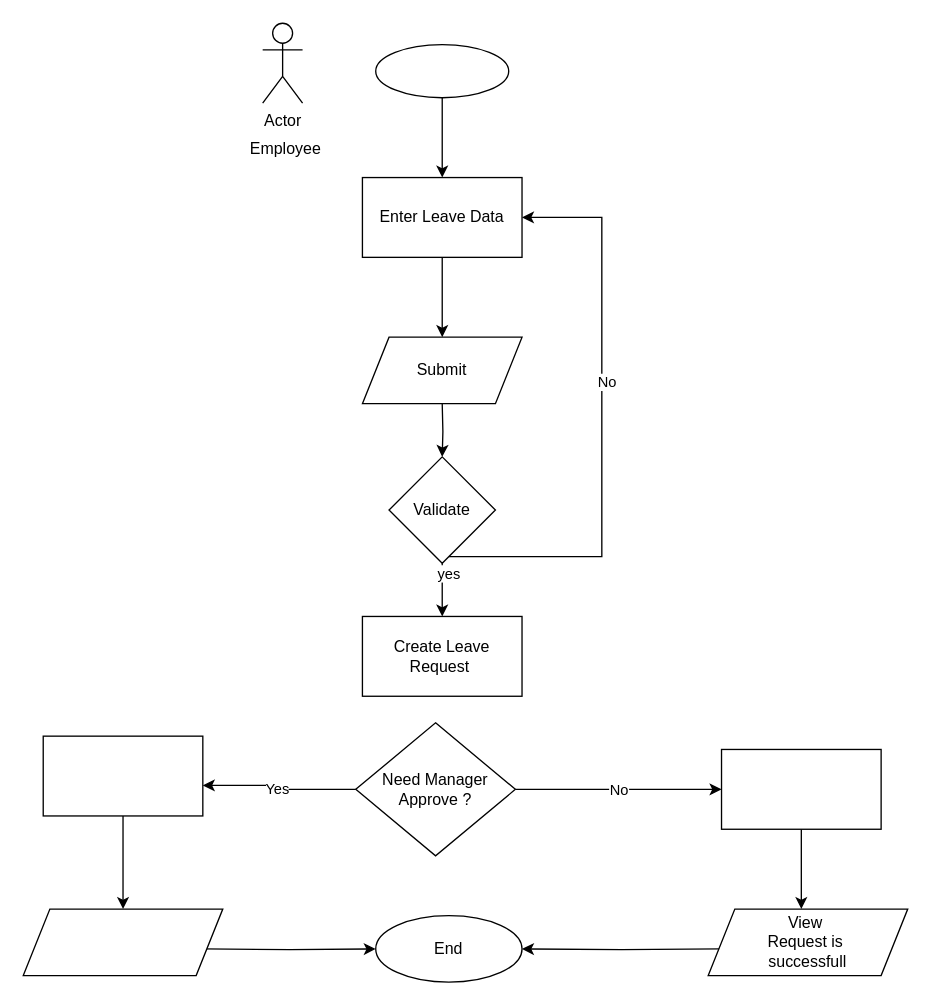
The diagram is 931 pixels wide and 1005 high, and some of its shapes have lost their labels. The shapes that lost their labels are listed below. From the top down, each one's centre as x and y in pixels, then its label:
At pixel 441 70: "Login".
At pixel 122 775: "Send Email To Manager".
At pixel 800 788: "Sent Notification with note to manager".
At pixel 122 942: "View Request is pending".
